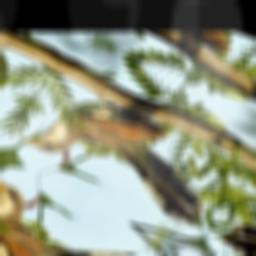Cuckoo: (19, 74, 241, 232)
